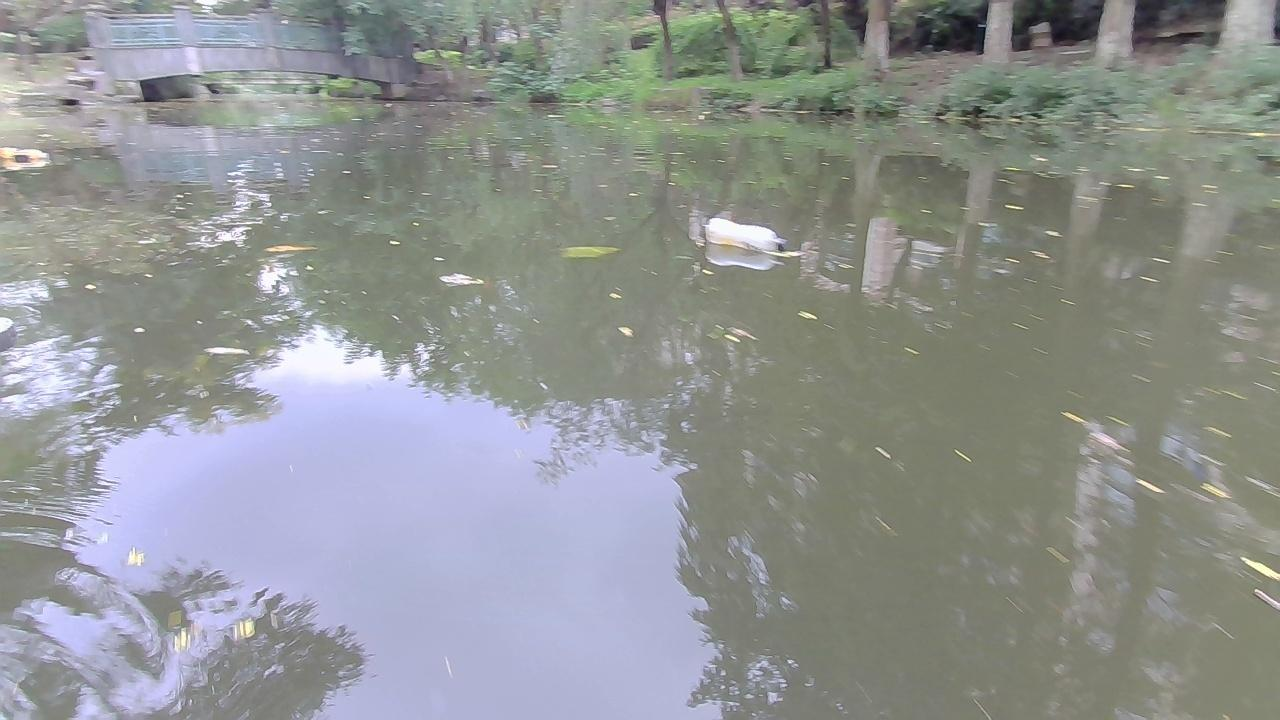bottle: (700, 216, 789, 253), (0, 147, 50, 162)
